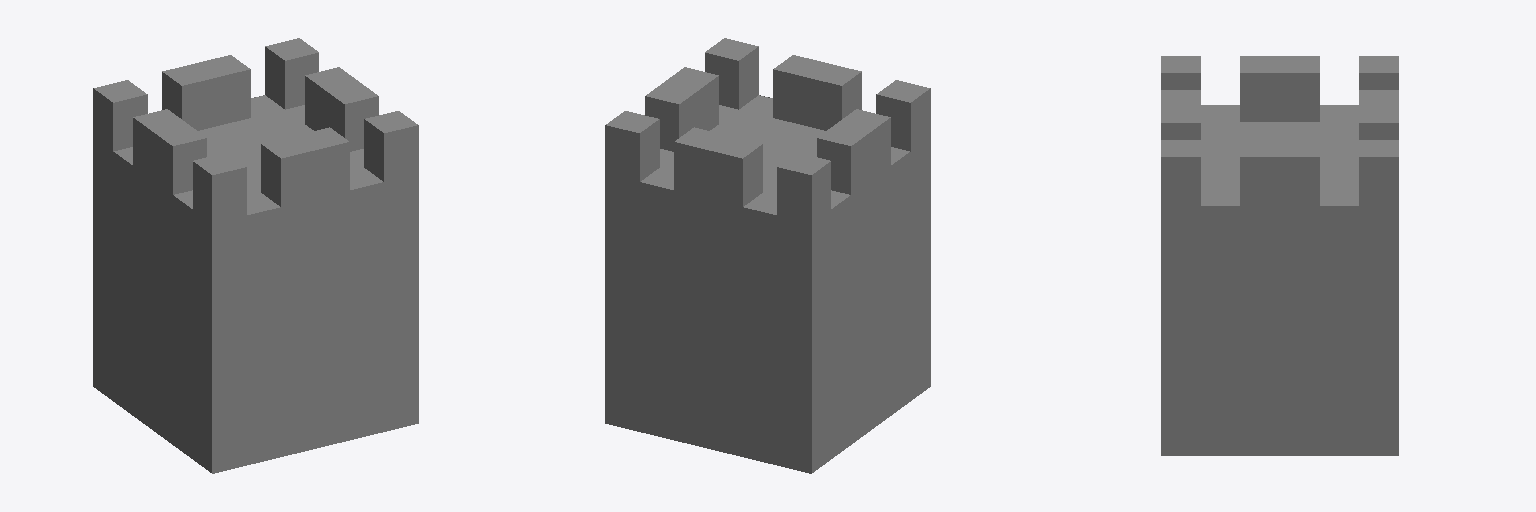
The model's file is wall.obj.
3 views of the same model, side by side, from view 1: azimuth 30°, elevation 25°; view 2: azimuth 150°, elevation 25°; view 3: azimuth 270°, elevation 25° (orthographic).
Visible parts, largest first — view 1: Box001; view 2: Box001; view 3: Box001.
Boxes of the visible parts, x1,y1,x2,y2 form: Box001: [93, 38, 418, 473]; Box001: [605, 38, 930, 473]; Box001: [1161, 56, 1398, 455].
Size of the model in its own units: 100 by 138 by 100.